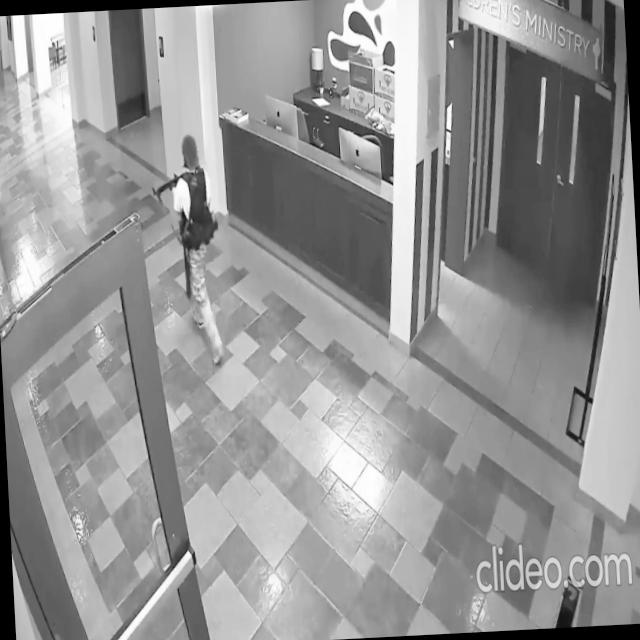gun: (180, 200, 194, 302), (152, 173, 186, 200)
person with a gun: (150, 132, 228, 370)
